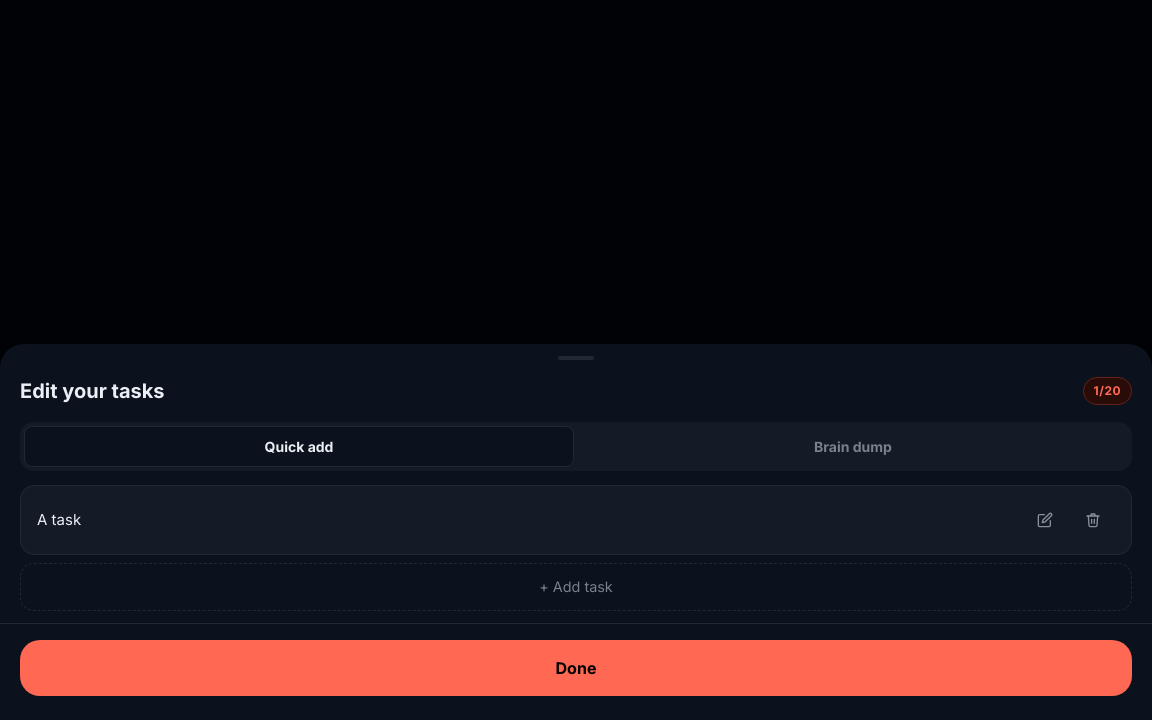
Scenario: EditModal › renders the append toast when provided
Click the tab with test id "edit-mode-dump". click: [853, 446]
box: [578, 426, 1128, 467]
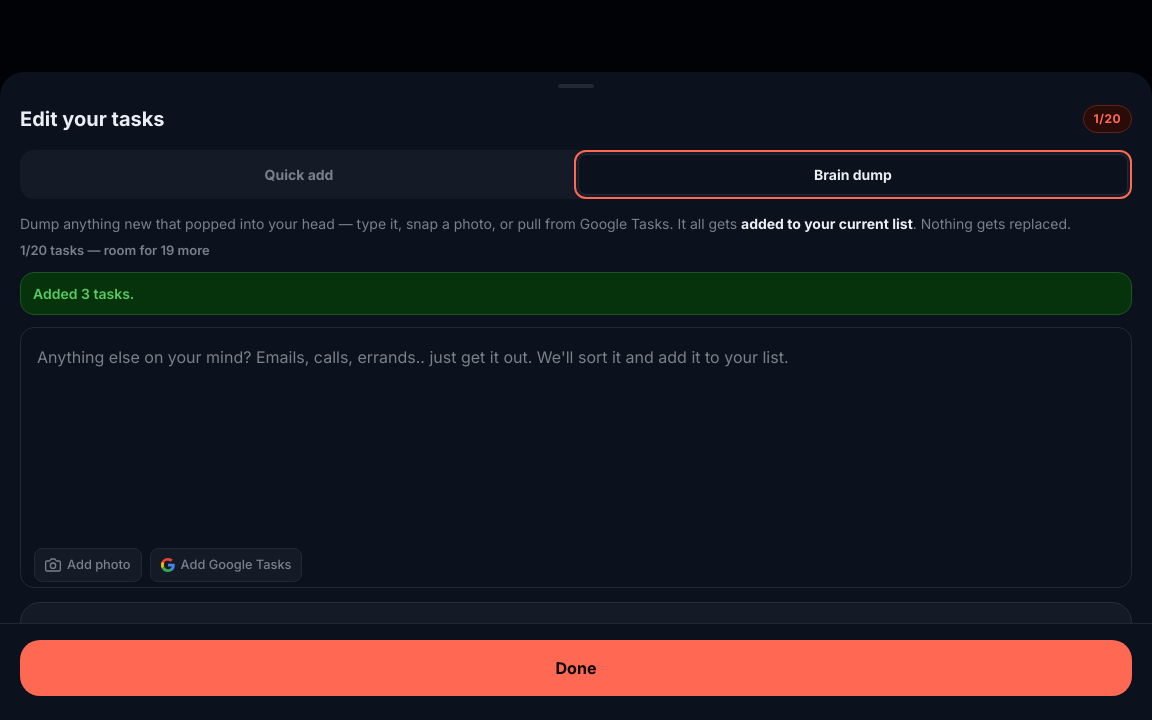
Result: the message with test id "brain-dump-toast" reads "Added 3 tasks." at [33, 285, 134, 302]
